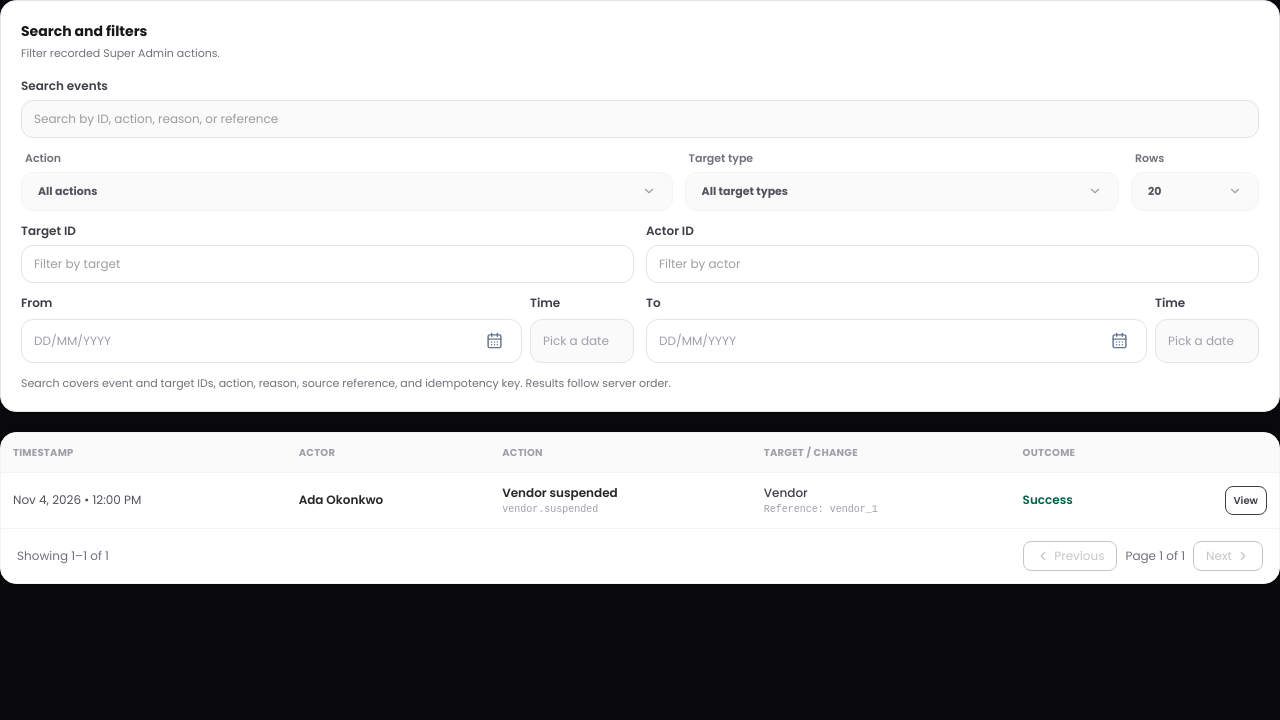
Scenario: Super Admin audit trail › shows a not-found detail without changing the list
The image size is (1280, 720).
Expected: the text "Ada Okonkwo" is shown, [287, 472, 490, 528]
What coordinates should you click on to do the following:
click the button "View"
I would click on:
 (1246, 500)
Its box is [1224, 486, 1267, 515].
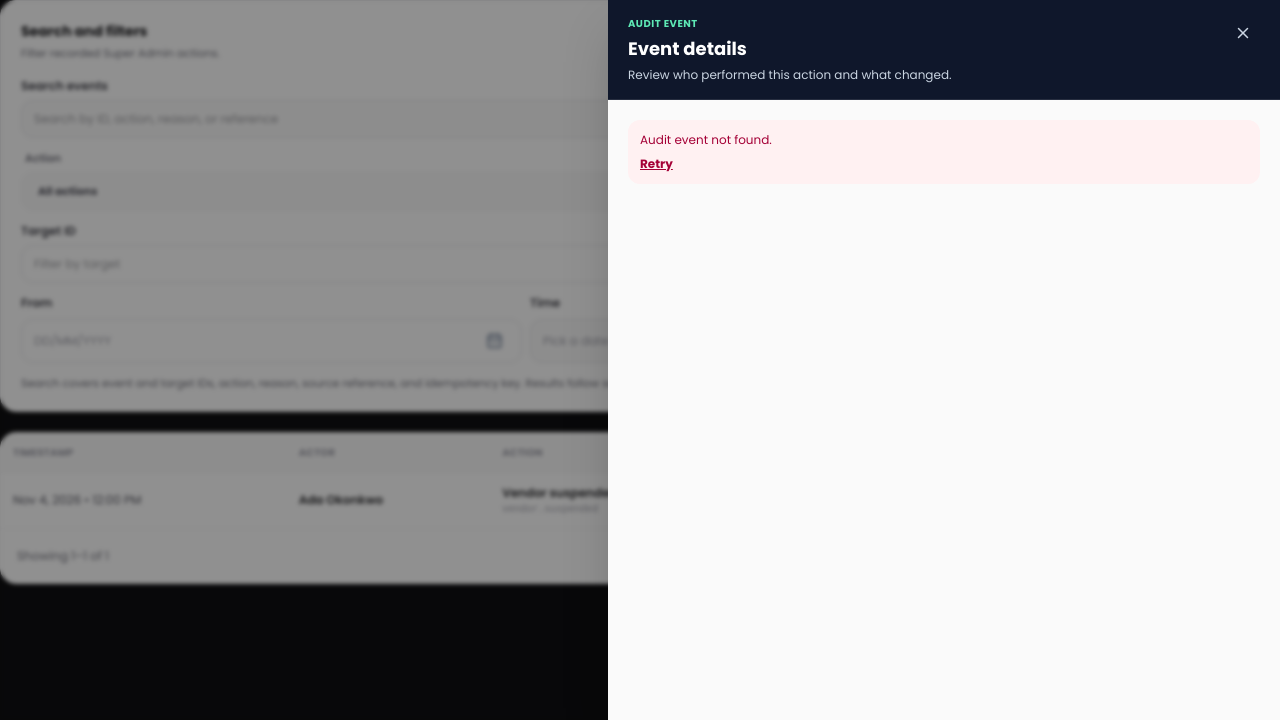
Expected: the text "Ada Okonkwo" is shown, [287, 472, 490, 528]
Now the dialog shows "Audit event not found.", box [640, 131, 772, 148]
